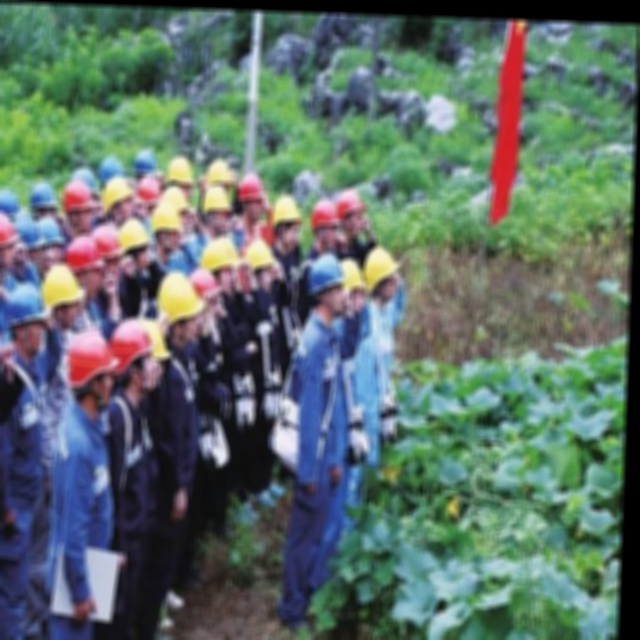Con_Casco: (66, 331, 114, 408), (306, 256, 346, 319)
